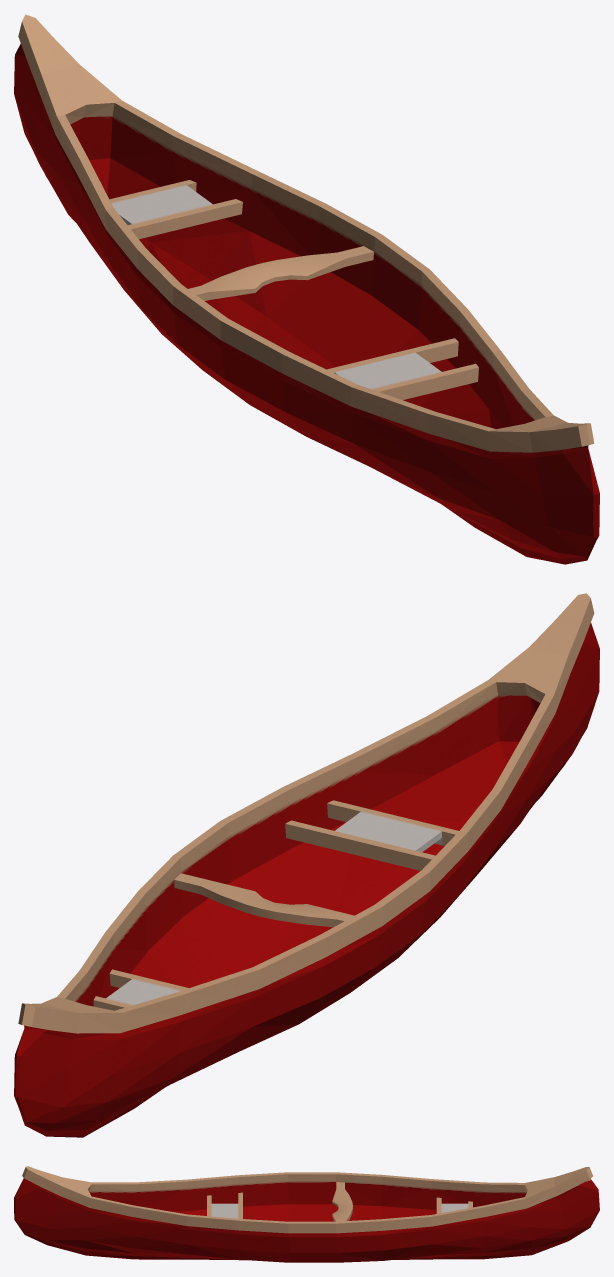
Rendered from Canoe.FBX.
3 views of the same model, one above another, from view 1: azimuth 30°, elevation 25°; view 2: azimuth 150°, elevation 25°; view 3: azimuth 270°, elevation 25° (orthographic). The views are drawn at different scales.
Parts seen in each view (by area): view 1: Cylinder001; view 2: Cylinder001; view 3: Cylinder001.
Boxes of the visible parts, bbox=[...] form: Cylinder001: bbox=[14, 14, 599, 564]; Cylinder001: bbox=[14, 593, 599, 1137]; Cylinder001: bbox=[14, 1166, 599, 1262].
Bounding box in the file's own units: 196 × 165 × 943.
